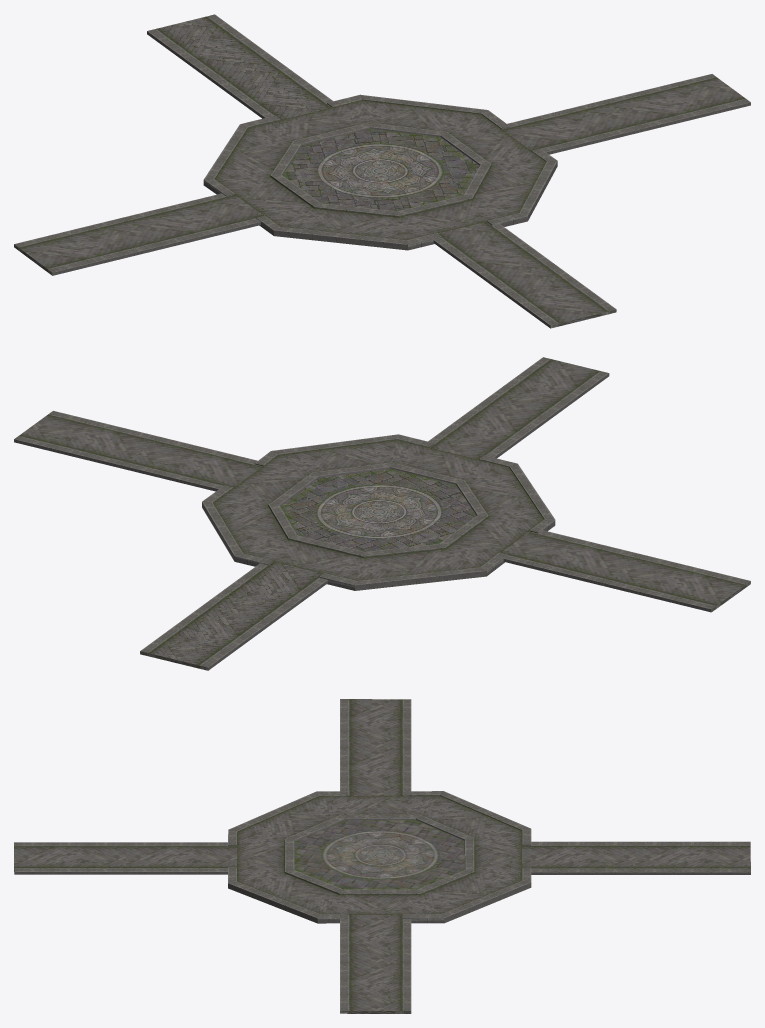
The model's file is fb_shaoshishan_dimian.FBX.
The picture shows the model from 3 angles, top to bottom: view 1: azimuth 30°, elevation 25°; view 2: azimuth 150°, elevation 25°; view 3: azimuth 270°, elevation 25°; orthographic projection. The views are drawn at different scales.
Parts seen in each view (by area): view 1: fb_shaoshishan_dimian; view 2: fb_shaoshishan_dimian; view 3: fb_shaoshishan_dimian.
Boxes of the visible parts, bbox=[...] form: fb_shaoshishan_dimian: bbox=[14, 14, 750, 328]; fb_shaoshishan_dimian: bbox=[14, 357, 750, 670]; fb_shaoshishan_dimian: bbox=[14, 699, 750, 1013].
Bounding box in the file's own units: 5287 × 45.95 × 5277.
